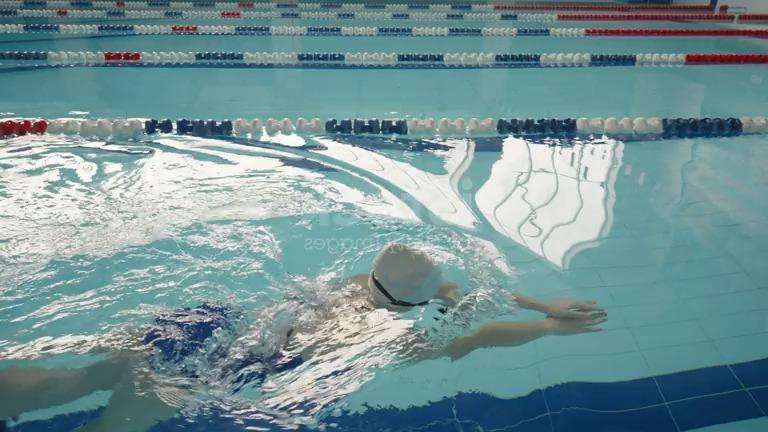Swimming: (3, 239, 611, 430)
